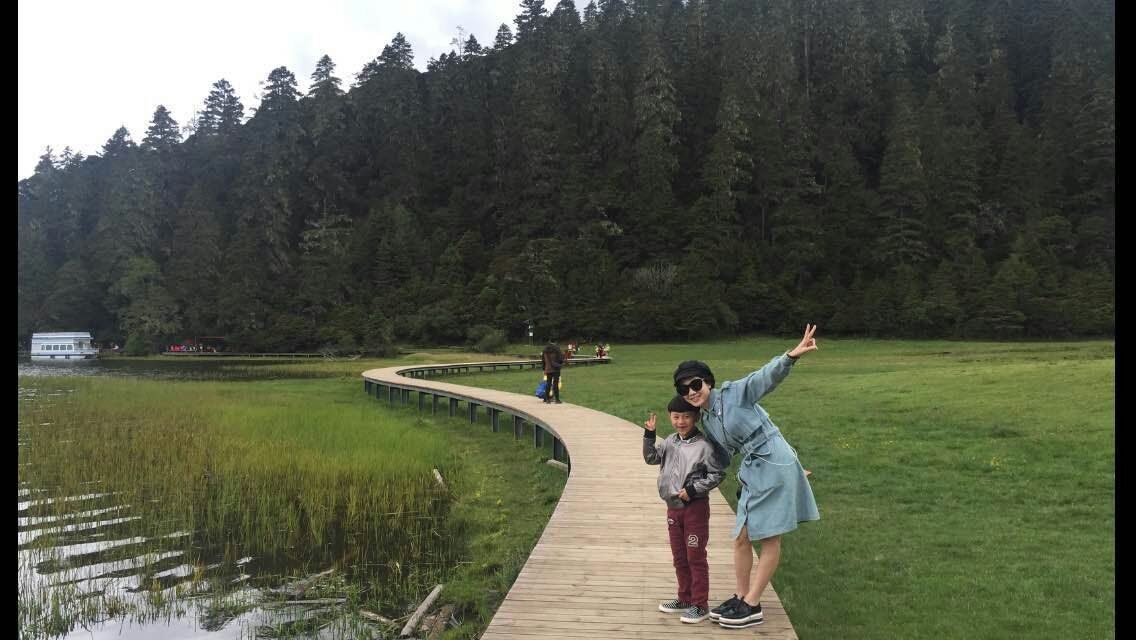handsup: (670, 316, 854, 630), (637, 394, 738, 624)
